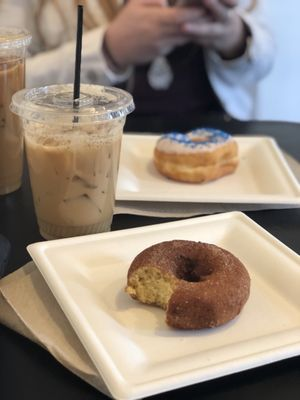pizza: (9, 82, 135, 241)
